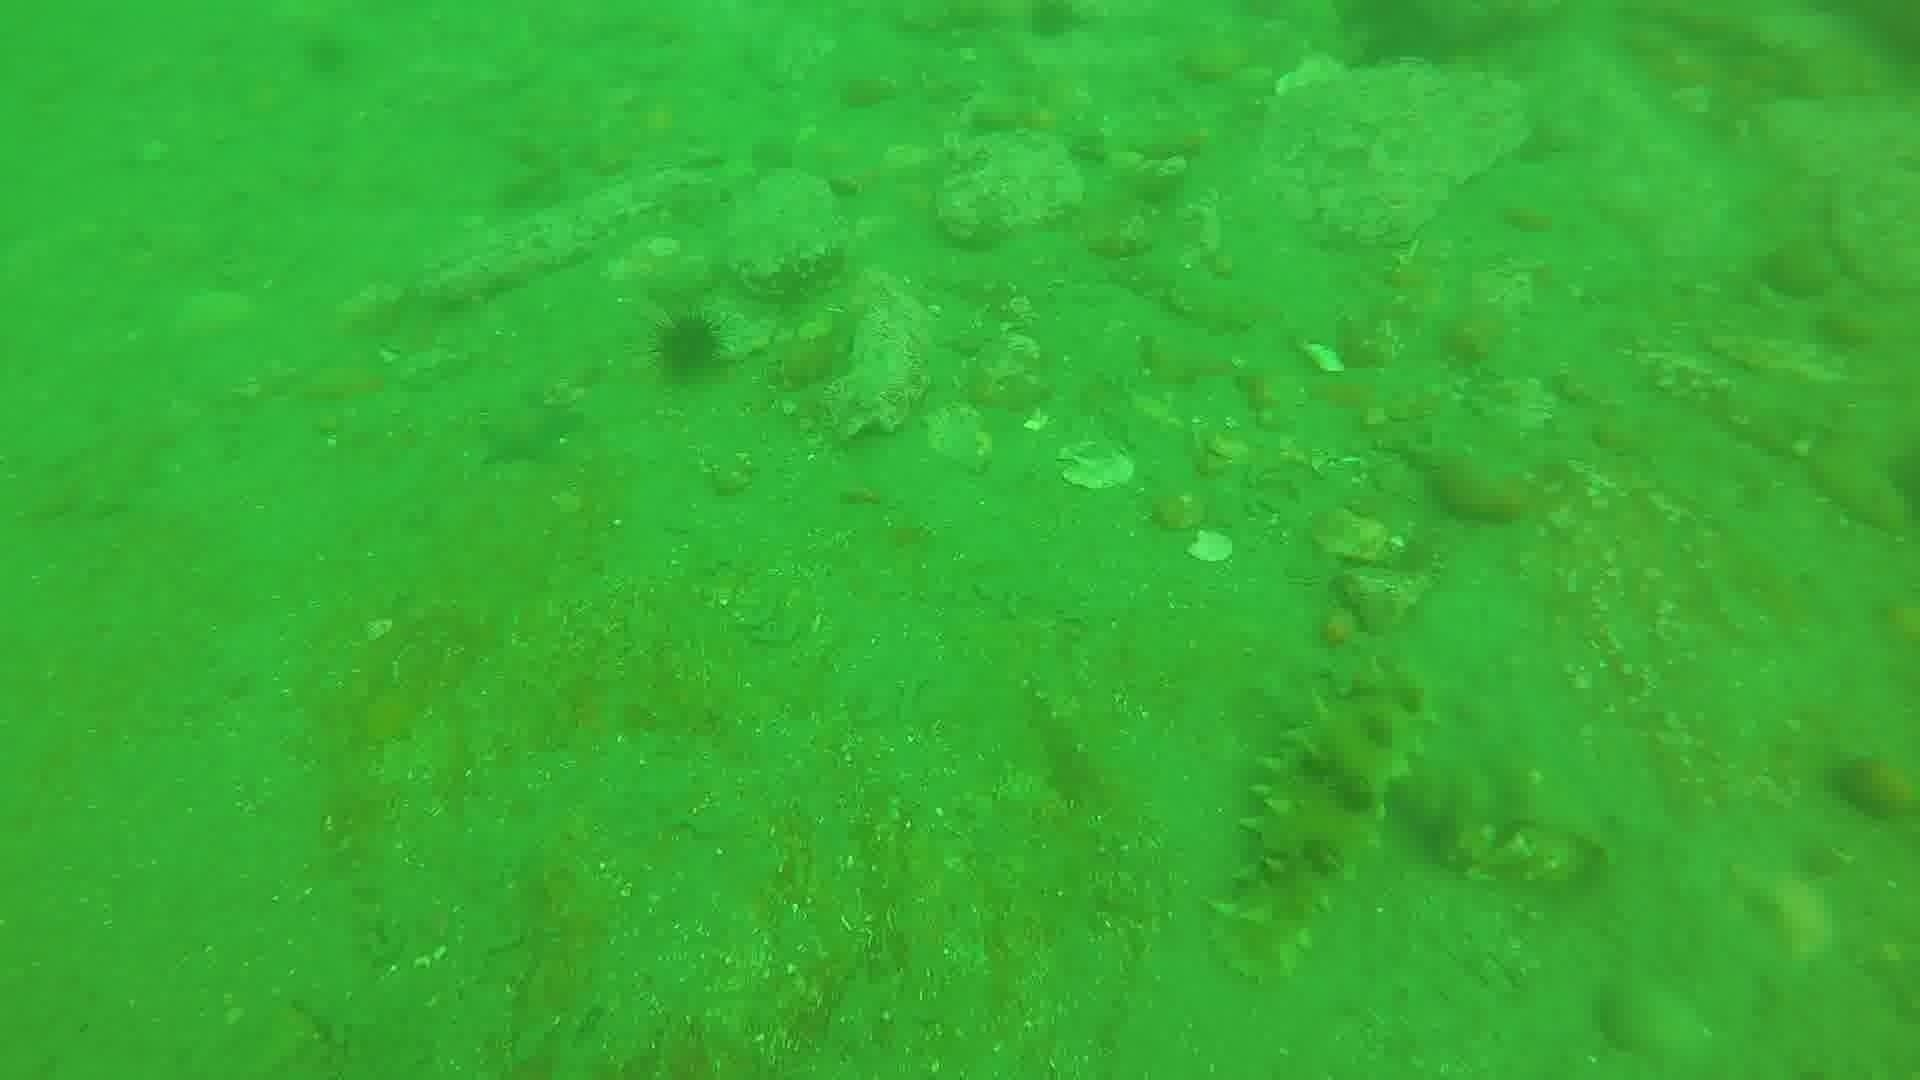echinus: (644, 307, 732, 388)
holothurian: (1209, 666, 1433, 986)
starfish: (469, 390, 582, 471)
